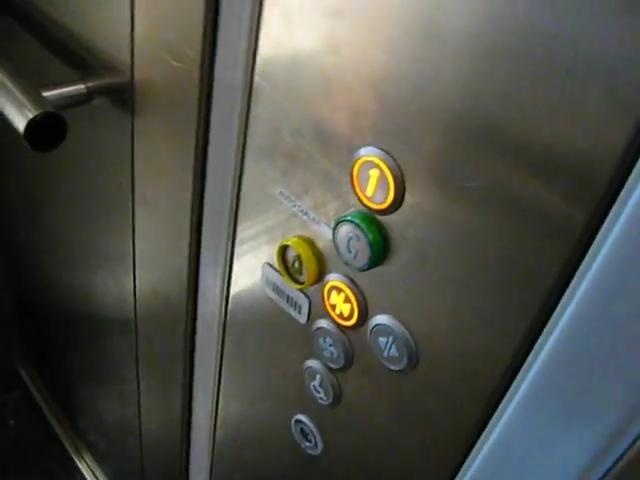1: (349, 146, 405, 216)
CH: (300, 359, 341, 407)
G: (333, 210, 386, 272)
alarm: (276, 234, 325, 289)
close: (322, 273, 369, 331)
fan: (307, 319, 355, 374)
keyhole: (290, 413, 323, 458)
open: (365, 313, 418, 373)
